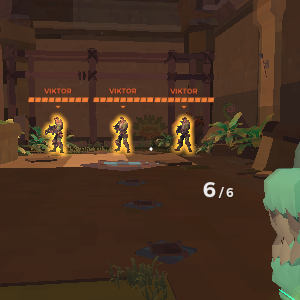model: (45, 112, 72, 157), (108, 113, 135, 153), (174, 113, 195, 160)
